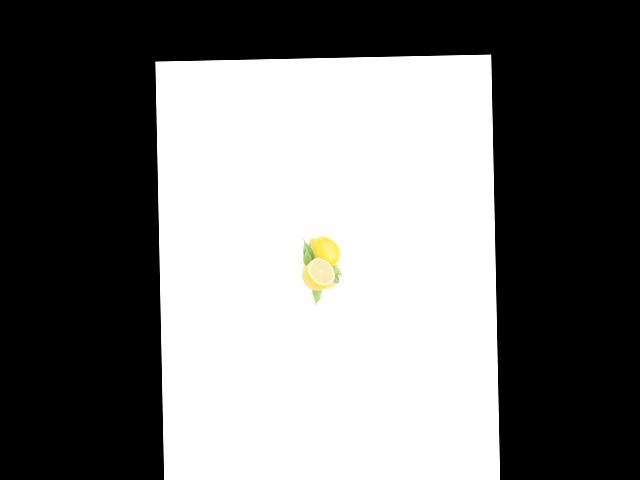lemon: (300, 257, 335, 293)
